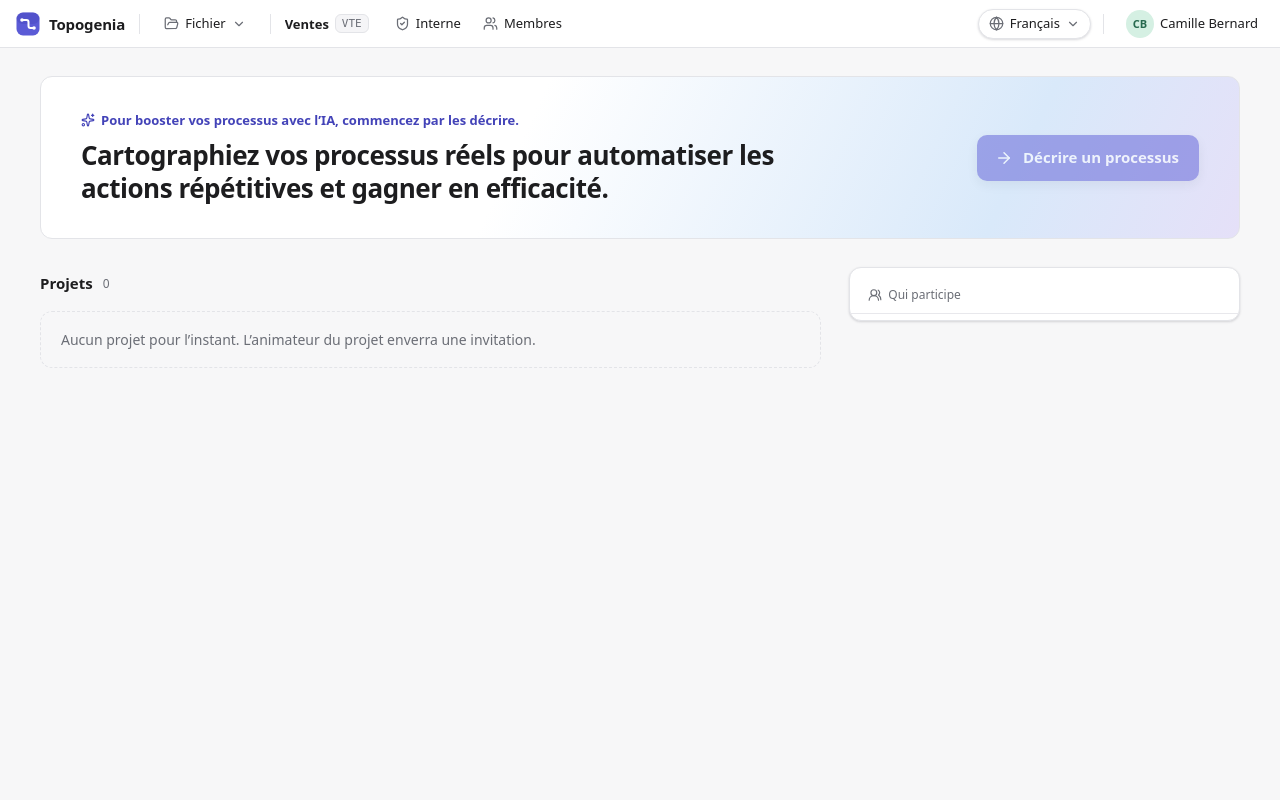
Test: the properties of the project for its facilitator (B-4-69, B-8.1-44, S-4.1-07) › Save waits for a change, then sends each setting by its route with the version read; the header shows the new level
The width and height of the screenshot is (1280, 800).
Expected: the header with test id "app-header" is shown, [0,0,1279,48]
Step 1. Click the button with test id "header-classification" → (428, 24), box [385,8,471,38]
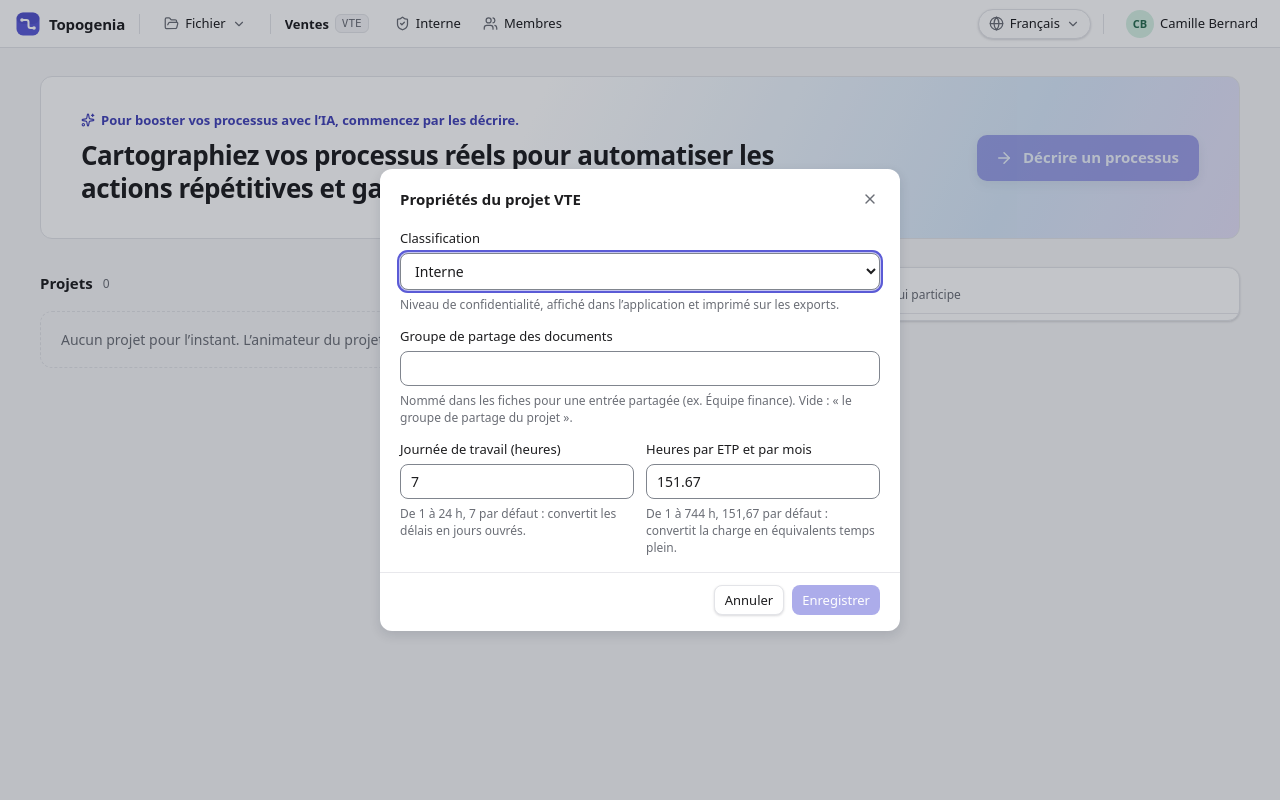
Expected: the button "Enregistrer" is disabled, [792,585,880,615]
Step 2. Select "Strictement confidentiel" in the dropdown labelled "Classification" → (640, 272), box [400,253,880,290]
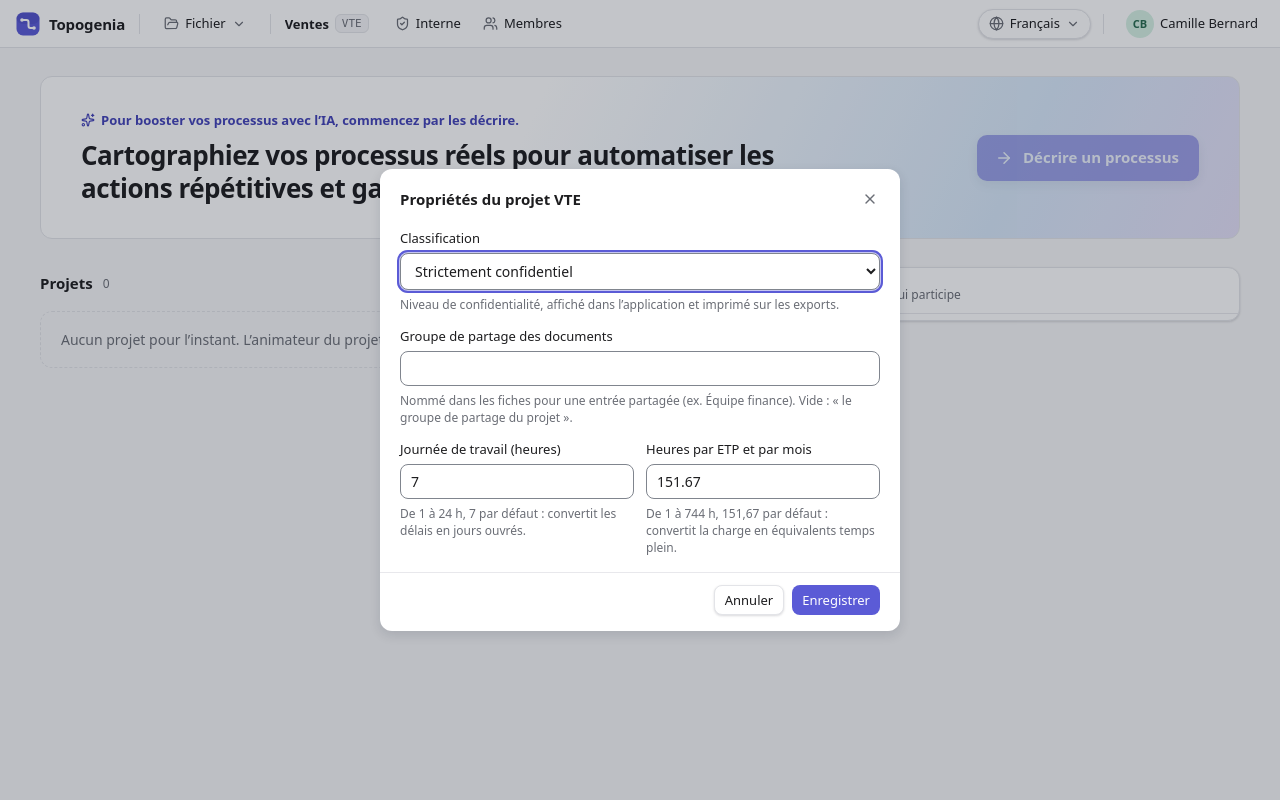
Step 3. Type "  Équipe achats " into the field labelled "Groupe de partage des documents" → (640, 368), box [400,351,880,386]
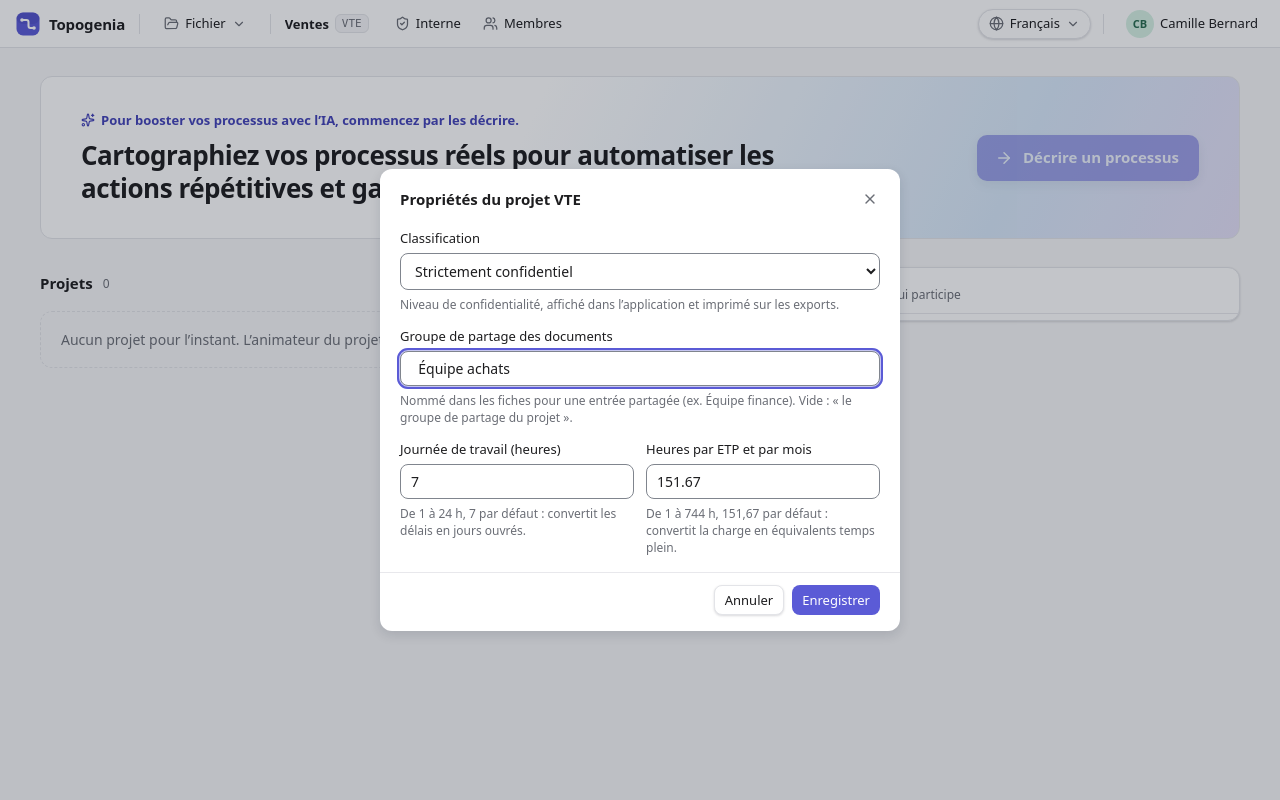
Step 4. Click the button "Enregistrer" → (836, 600), box [792,585,880,615]
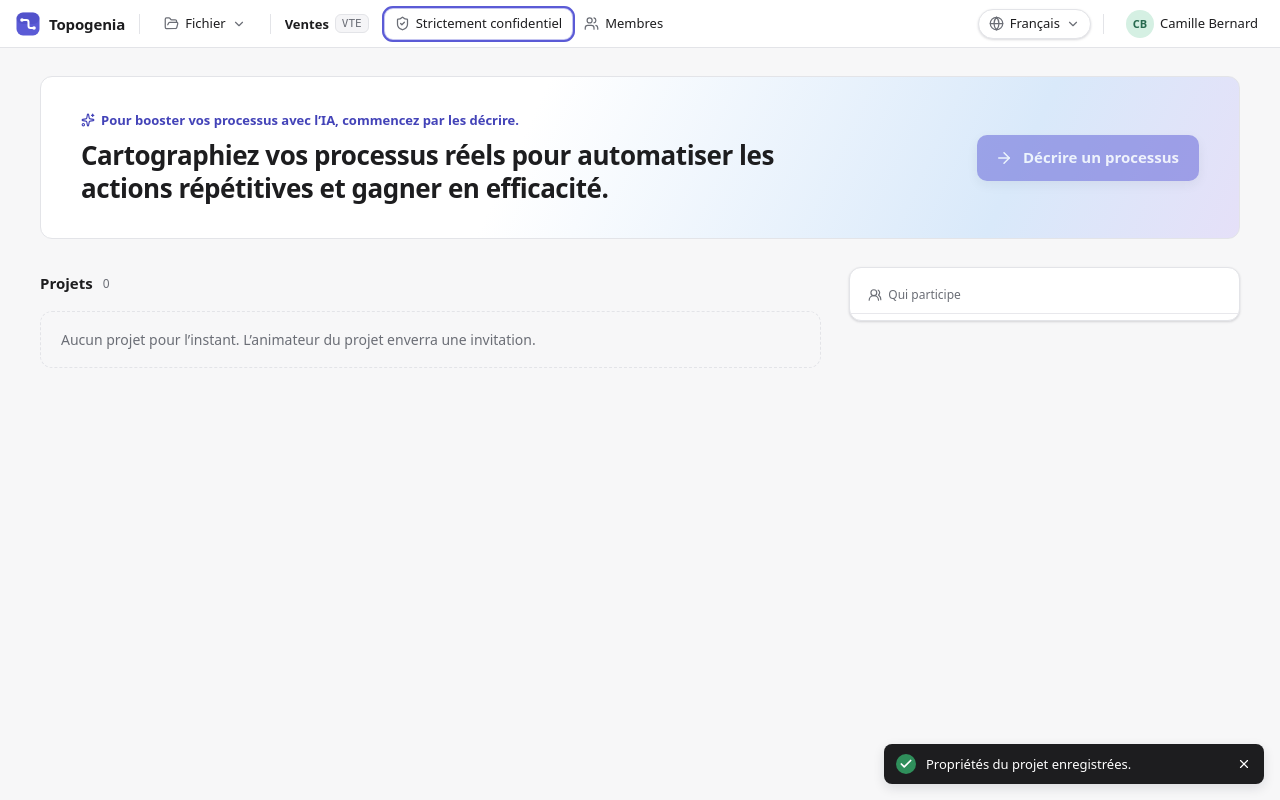
Expected: the dialog is gone
Expected: the button with test id "header-classification" reads "Strictement confidentiel", [385,8,572,38]
